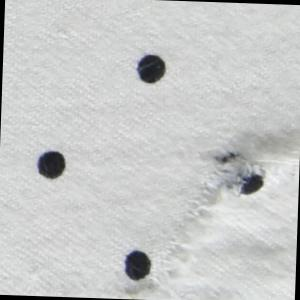Damage: (115, 130, 273, 300)
